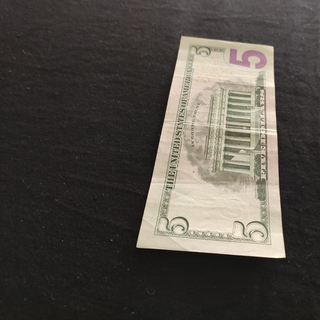5USDBack: (135, 35, 287, 258)
